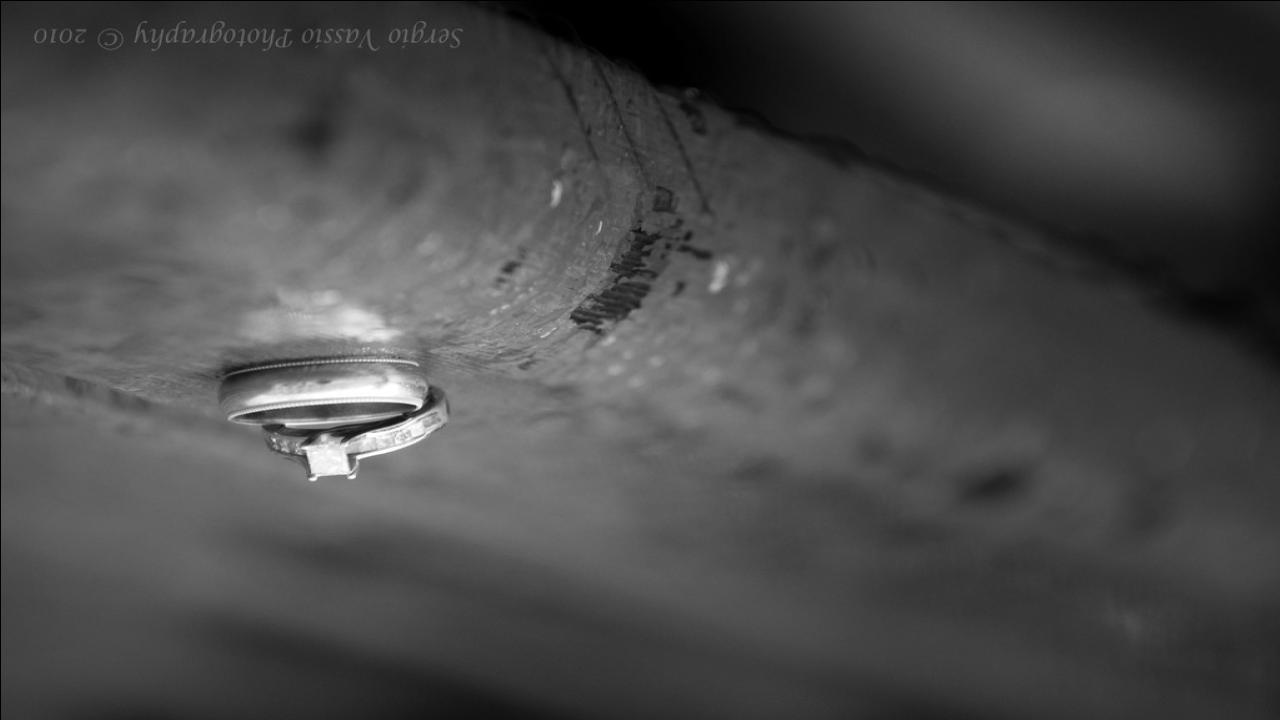ring: (255, 410, 449, 482), (220, 359, 422, 425)
